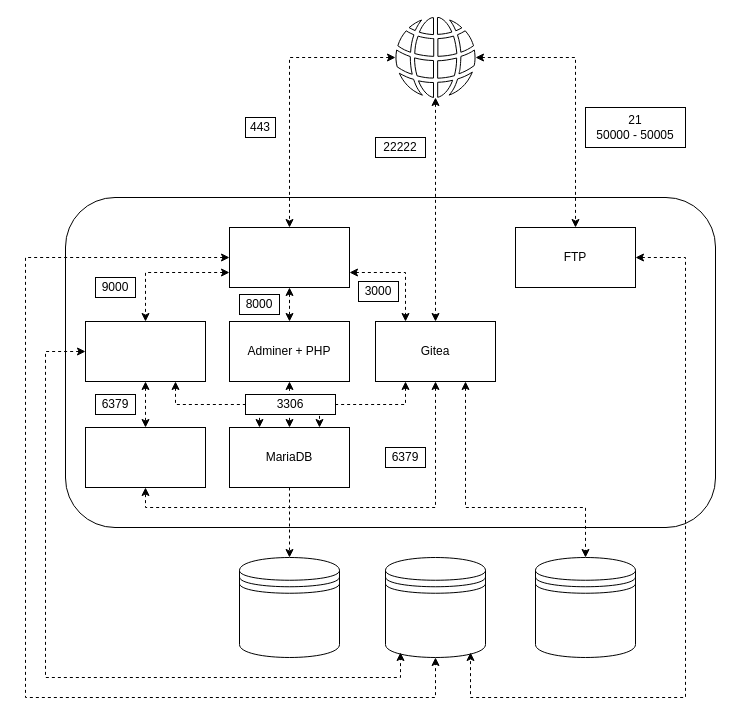
This 733x724 diagram has some shape labels left out. Each missing label, with the centre of its shape:
"Database" belongs at (x=289, y=607).
"Gitea files" belongs at (x=585, y=607).
"NGINX Reverse proxy" belongs at (x=289, y=257).
"Redis" belongs at (x=145, y=457).
"WordPress + PHP" belongs at (x=145, y=351).
"WordPress files" belongs at (x=435, y=607).
